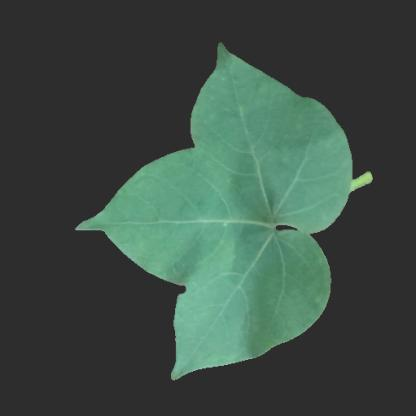healthy: (216, 84, 324, 224), (139, 175, 263, 272), (187, 274, 254, 358), (265, 237, 311, 331)
